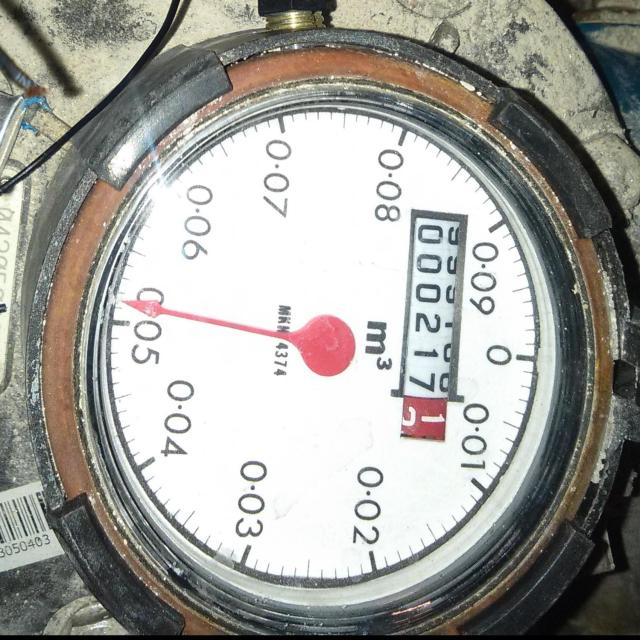gaz_meter: (89, 89, 584, 624)
indication: (399, 210, 464, 443)
